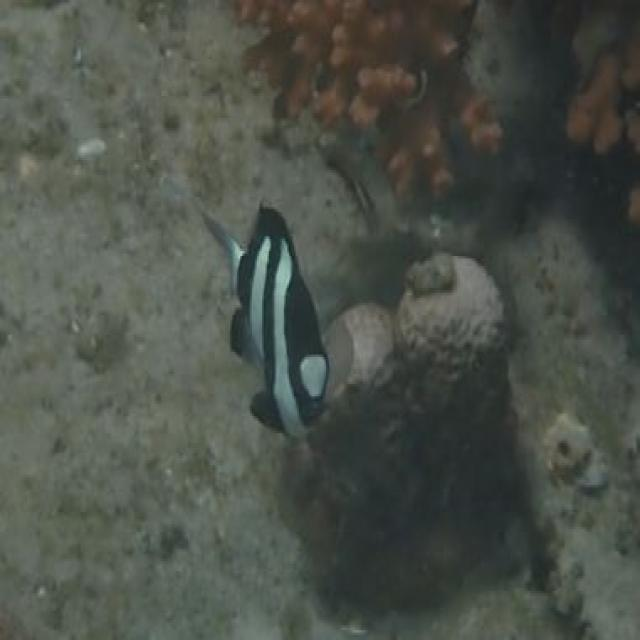ThreeStripedDamselfish: (213, 207, 333, 438)
